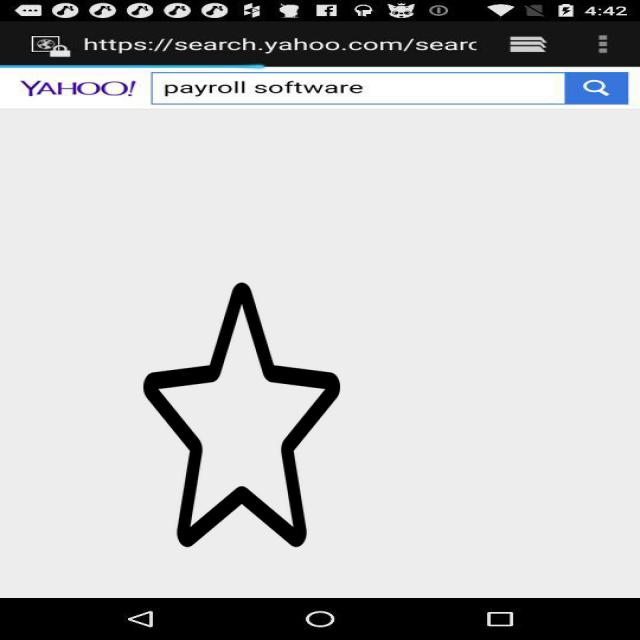forced continuity: (144, 276, 340, 552)
